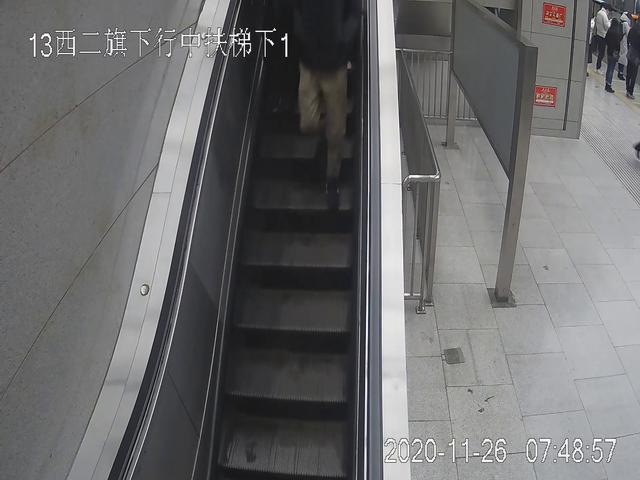person: (292, 3, 360, 209), (604, 17, 624, 90), (592, 4, 607, 70)
